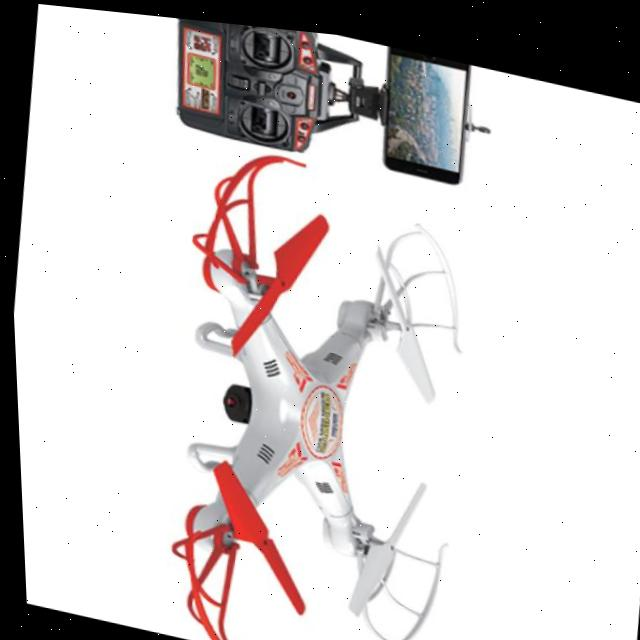drones: (72, 110, 530, 640)
